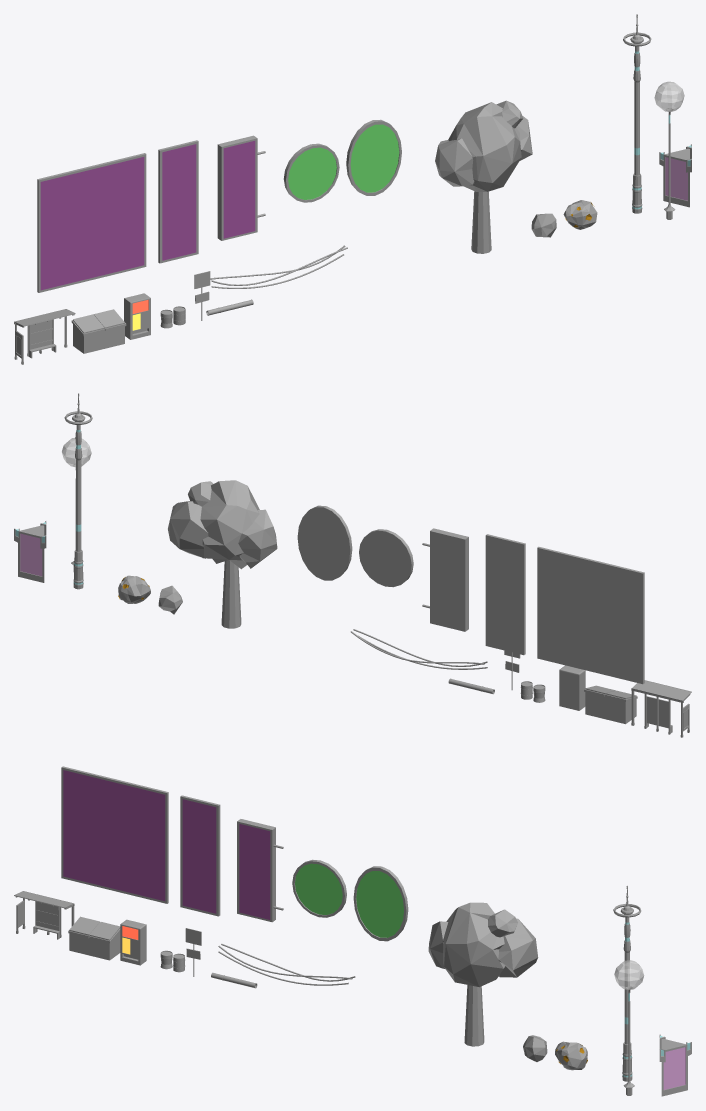
The model's file is props.fbx.
3 views of the same model, one above another, from view 1: azimuth 30°, elevation 25°; view 2: azimuth 150°, elevation 25°; view 3: azimuth 330°, elevation 25° (orthographic).
Visible parts, largest first — view 1: Panneau_Neon_grand, Panneau_Neon_petit, pCube2, Panneau_Neon_accroche, Panneau_Neon_Ovale, Panneau_Neon_rond, poubelle, abriBus, panneau_affichage, pCube3, antenne, distributeur (+3 smaller); view 2: Panneau_Neon_grand, Panneau_Neon_petit, Panneau_Neon_accroche, pCube2, Panneau_Neon_Ovale, Panneau_Neon_rond, abriBus, pCube5, panneau_affichage, poubelle, antenne, pCube3 (+4 smaller); view 3: Panneau_Neon_grand, Panneau_Neon_petit, pCube2, Panneau_Neon_accroche, Panneau_Neon_Ovale, Panneau_Neon_rond, poubelle, abriBus, pCube5, panneau_affichage, antenne, distributeur (+6 smaller).
Part boxes in pixels (x1,y1,x2,y2): Panneau_Neon_grand: (37,153,146,292); Panneau_Neon_petit: (158,140,198,263); pCube2: (448,102,521,191); Panneau_Neon_accroche: (217,135,265,240); Panneau_Neon_Ovale: (346,119,401,195); Panneau_Neon_rond: (283,143,339,202); poubelle: (71,309,126,353); abriBus: (14,309,75,364); panneau_affichage: (659,144,691,207); pCube3: (435,138,474,186); antenne: (623,14,651,213); distributeur: (124,293,150,339); Panneau_Neon_grand: (537,546,644,684); Panneau_Neon_petit: (485,534,525,655); Panneau_Neon_accroche: (422,528,468,631); pCube2: (200,480,259,569); Panneau_Neon_Ovale: (297,505,352,580); Panneau_Neon_rond: (359,529,413,587); abriBus: (631,680,691,737); pCube5: (168,501,208,558); panneau_affichage: (14,521,46,582); poubelle: (584,685,637,724); antenne: (64,393,92,589); pCube3: (238,509,277,568); Panneau_Neon_grand: (61,766,168,903); Panneau_Neon_petit: (180,795,220,916); pCube2: (442,902,505,987); Panneau_Neon_accroche: (237,819,283,922); Panneau_Neon_Ovale: (353,866,408,941); Panneau_Neon_rond: (292,859,346,917); poubelle: (68,916,120,960); abriBus: (14,891,74,939); pCube5: (498,918,538,977); panneau_affichage: (659,1034,691,1096); antenne: (613,885,641,1081); distributeur: (120,919,146,965).
Size of the model in its own units: 30.49 by 8.58 by 3.46.
